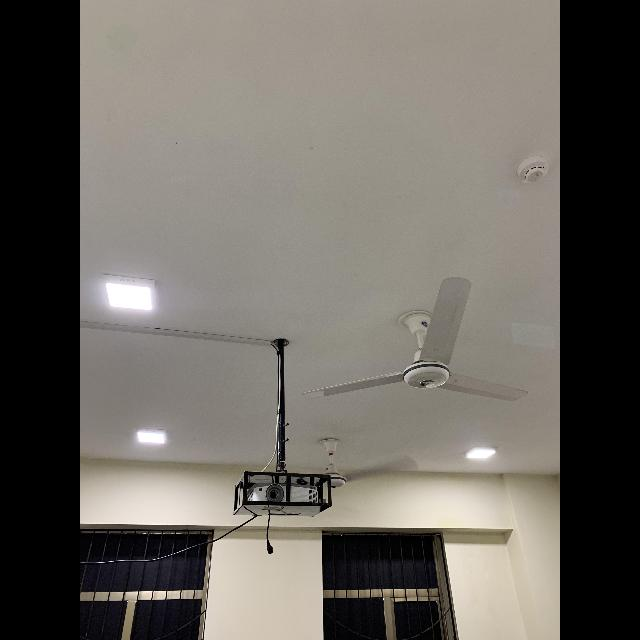Projector: (233, 471, 331, 517)
